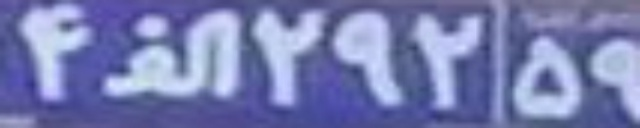2: (248, 8, 327, 110), (415, 11, 487, 109)
4: (15, 3, 90, 100)
5: (506, 34, 581, 118)
9: (332, 8, 409, 106), (587, 36, 638, 124)
alef: (102, 8, 244, 101)
